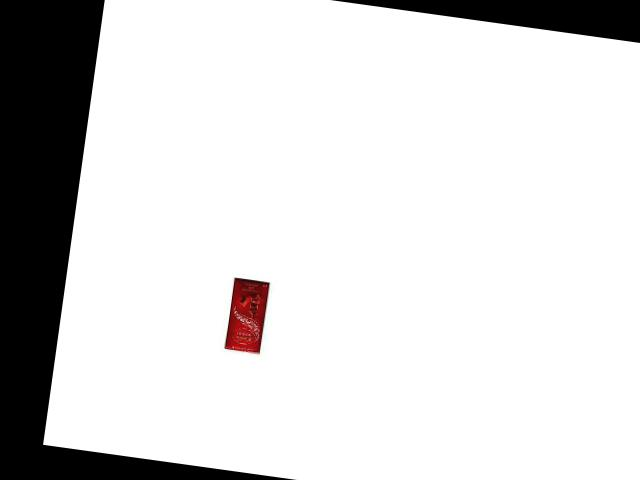chocolate: (223, 272, 272, 355)
